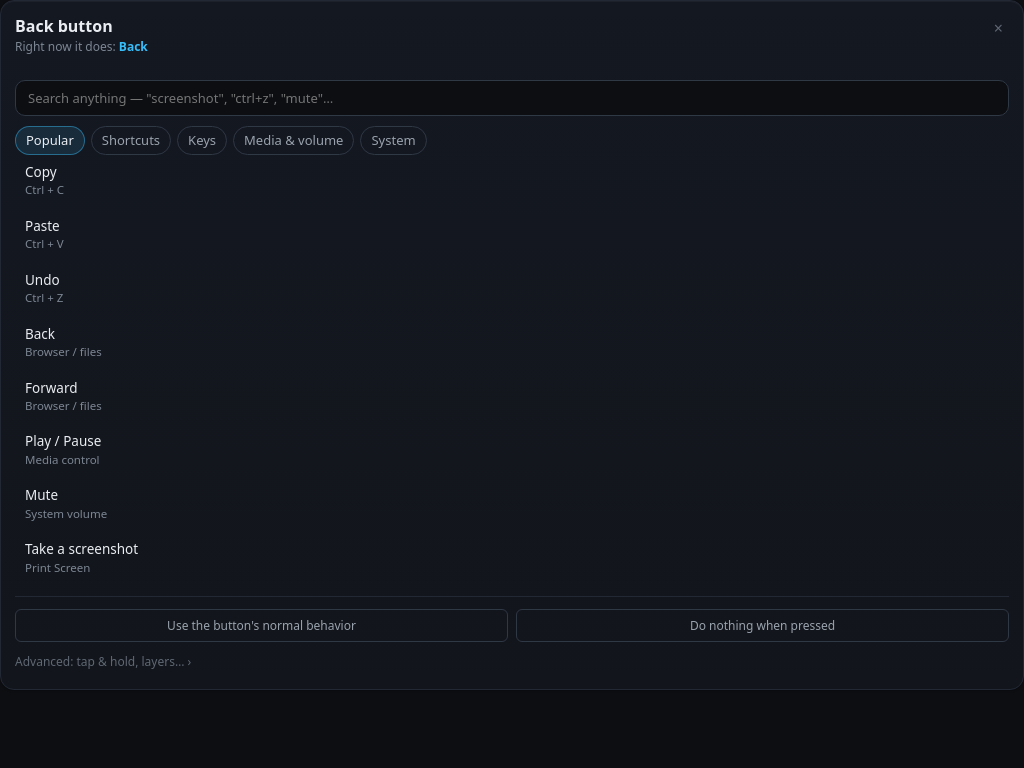
it: AssignPanel › Keys category exposes press-to-set
The image size is (1024, 768).
Click the button "Keys".
click(202, 140)  # box 177,126 -> 227,155
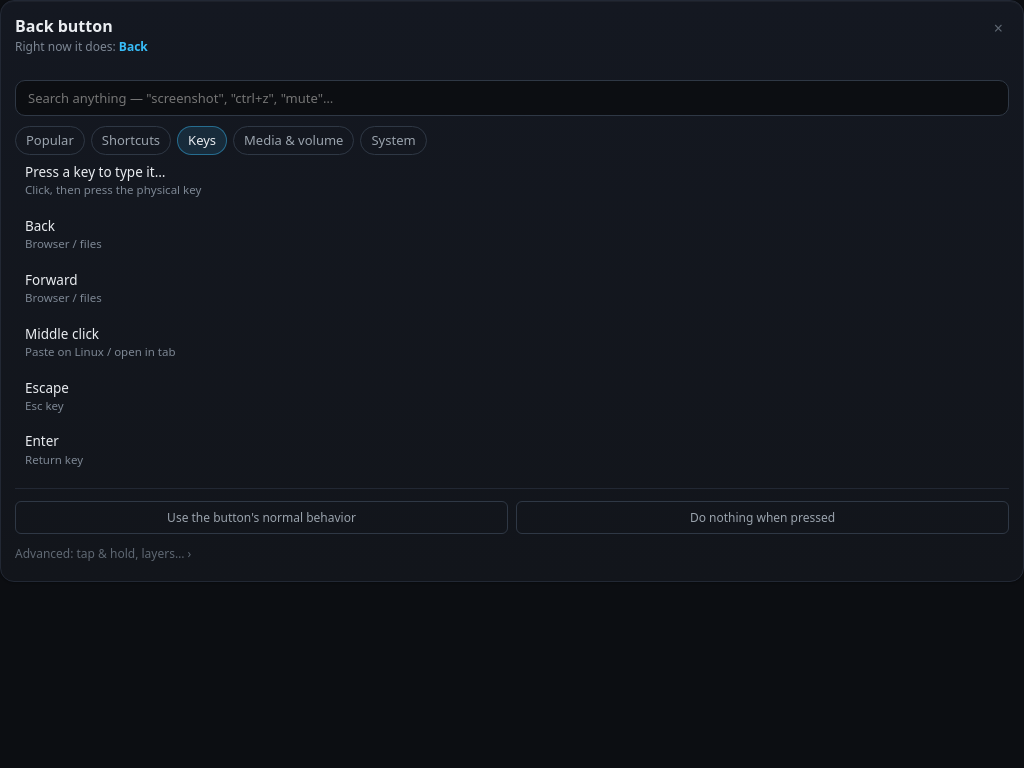
Expected: the button "Press a key to type it… Click, then press the physical key" is shown, 15,155 -> 1009,207
